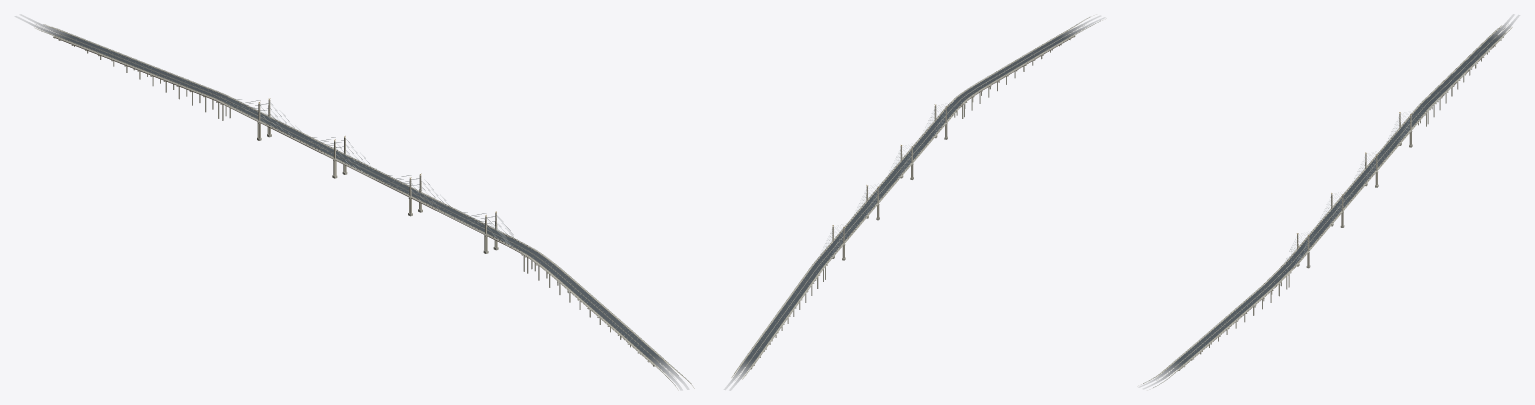
File: golden-ears-bridge-near.glb
The picture shows the model from 3 angles, left to right: view 1: azimuth 30°, elevation 25°; view 2: azimuth 150°, elevation 25°; view 3: azimuth 330°, elevation 25°; orthographic projection. The views are drawn at different scales.
Visible parts, largest first — view 1: golden-ears-bridge-1-asphalt, golden-ears-bridge-2-asphalt, golden-ears-bridge-1-concrete, golden-ears-bridge-2-concrete, golden-ears-bridge-0-concrete, golden-ears-bridge-3-concrete, golden-ears-bridge-3-asphalt, golden-ears-bridge-0-asphalt; view 2: golden-ears-bridge-1-asphalt, golden-ears-bridge-2-asphalt, golden-ears-bridge-3-concrete, golden-ears-bridge-0-asphalt, golden-ears-bridge-2-concrete, golden-ears-bridge-0-concrete, golden-ears-bridge-1-concrete, golden-ears-bridge-3-asphalt; view 3: golden-ears-bridge-2-asphalt, golden-ears-bridge-1-asphalt, golden-ears-bridge-3-concrete, golden-ears-bridge-2-concrete, golden-ears-bridge-3-asphalt, golden-ears-bridge-1-concrete, golden-ears-bridge-0-concrete, golden-ears-bridge-0-asphalt.
Part boxes in pixels (bbox=[...]): golden-ears-bridge-1-asphalt: bbox=[194, 86, 382, 176]; golden-ears-bridge-2-asphalt: bbox=[375, 174, 558, 270]; golden-ears-bridge-1-concrete: bbox=[192, 86, 383, 178]; golden-ears-bridge-2-concrete: bbox=[372, 173, 559, 280]; golden-ears-bridge-0-concrete: bbox=[34, 24, 203, 105]; golden-ears-bridge-3-concrete: bbox=[547, 268, 694, 390]; golden-ears-bridge-3-asphalt: bbox=[549, 268, 653, 354]; golden-ears-bridge-0-asphalt: bbox=[70, 38, 201, 89]; golden-ears-bridge-1-asphalt: bbox=[804, 181, 893, 280]; golden-ears-bridge-2-asphalt: bbox=[885, 87, 979, 182]; golden-ears-bridge-3-concrete: bbox=[971, 14, 1106, 103]; golden-ears-bridge-0-asphalt: bbox=[748, 279, 812, 357]; golden-ears-bridge-2-concrete: bbox=[884, 87, 982, 182]; golden-ears-bridge-0-concrete: bbox=[731, 278, 814, 380]; golden-ears-bridge-1-concrete: bbox=[802, 180, 896, 288]; golden-ears-bridge-3-asphalt: bbox=[972, 38, 1063, 89]; golden-ears-bridge-2-asphalt: bbox=[1263, 189, 1357, 288]; golden-ears-bridge-1-asphalt: bbox=[1349, 95, 1439, 190]; golden-ears-bridge-3-concrete: bbox=[1137, 286, 1273, 390]; golden-ears-bridge-2-concrete: bbox=[1262, 189, 1360, 296]; golden-ears-bridge-3-asphalt: bbox=[1180, 286, 1270, 360]; golden-ears-bridge-1-concrete: bbox=[1348, 95, 1441, 190]; golden-ears-bridge-0-concrete: bbox=[1429, 24, 1512, 110]; golden-ears-bridge-0-asphalt: bbox=[1431, 41, 1495, 96].
Size of the model in its own units: 323 by 87.16 by 2290.
